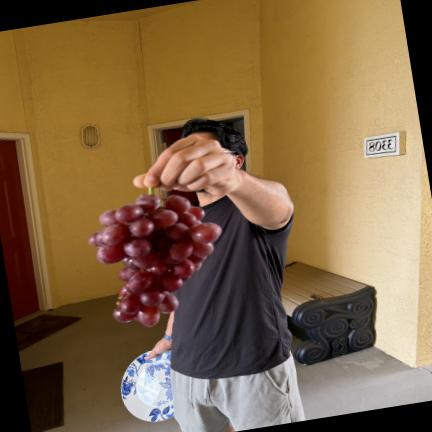grape_cluster: (89, 187, 222, 327)
